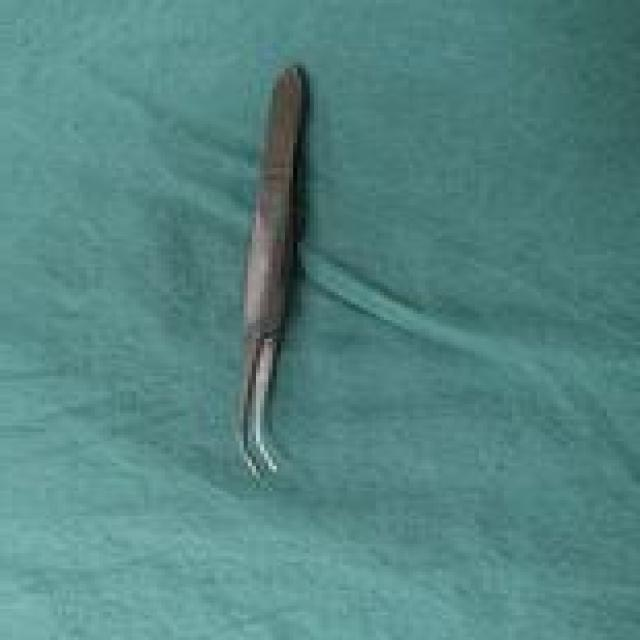Forceps: (231, 62, 318, 485)
